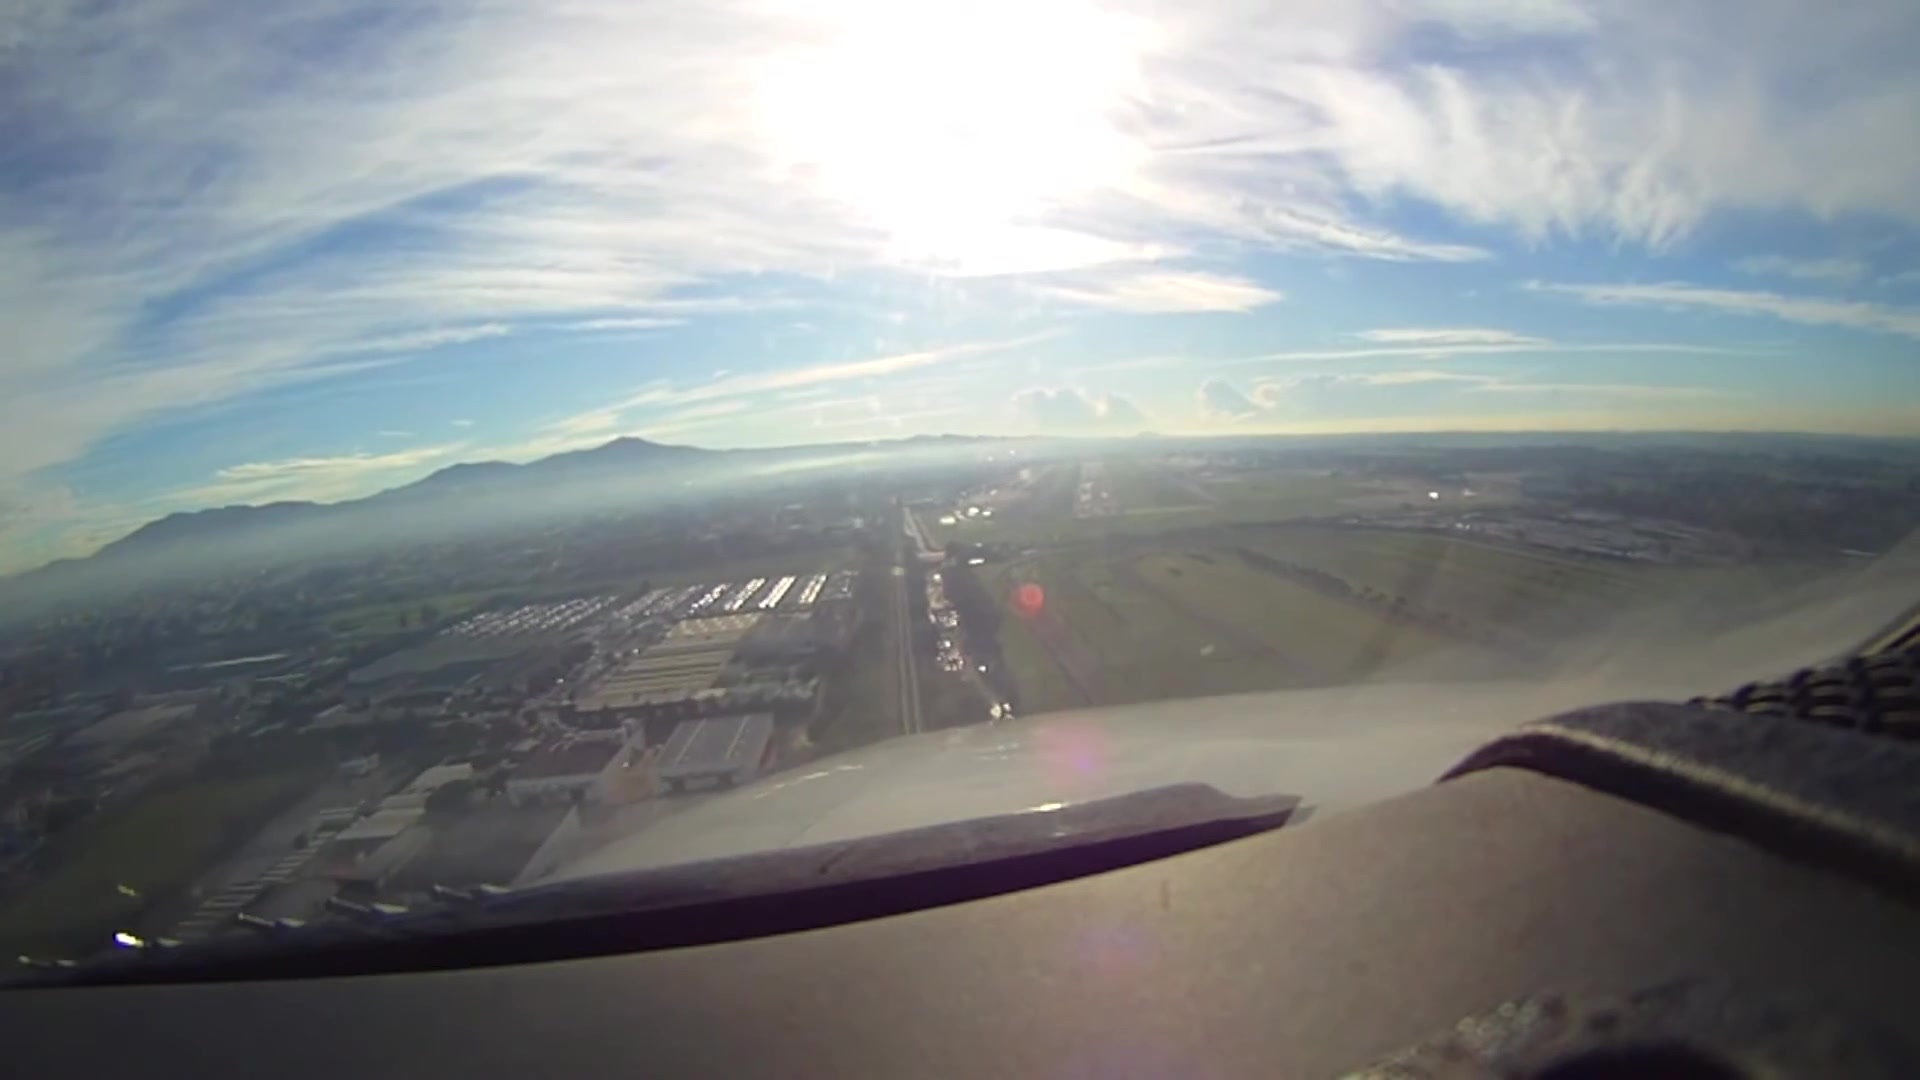runway: (1073, 462, 1120, 518)
